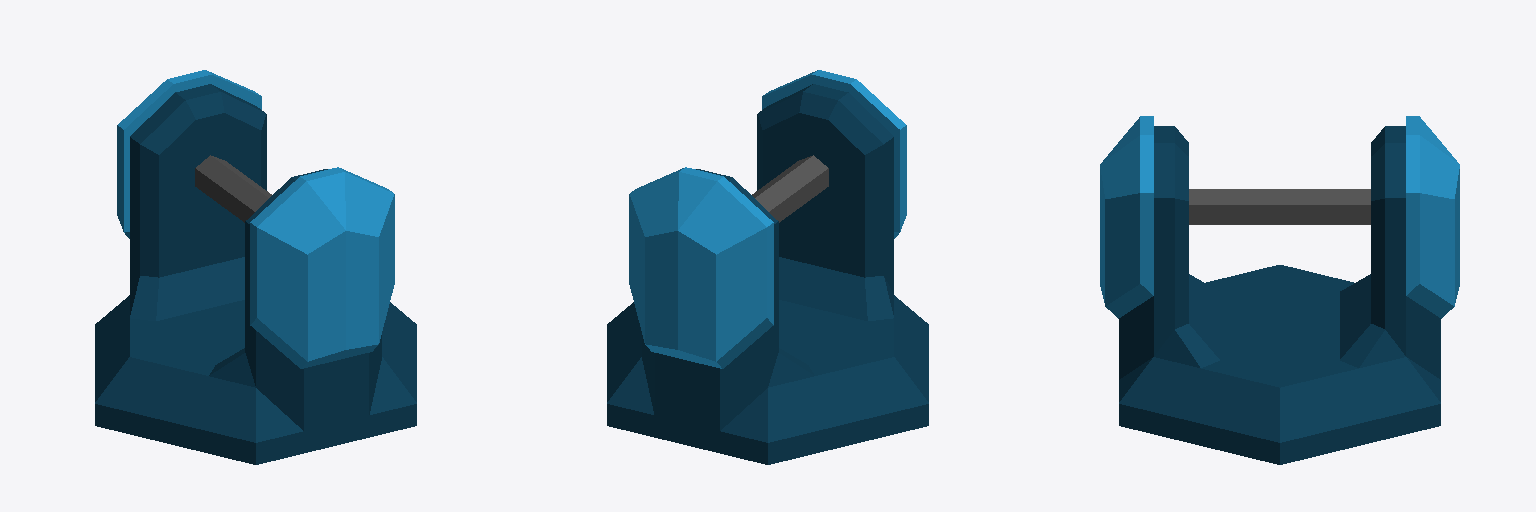
Rendered from Spacestation_Weapon_Modular_Gun_Mount.obj.
3 renders of one model, left to right at view 1: azimuth 30°, elevation 25°; view 2: azimuth 150°, elevation 25°; view 3: azimuth 270°, elevation 25°, orthographic.
Visible parts, largest first — view 1: object4, object3, object2, object1; view 2: object4, object2, object3, object1; view 3: object4, object2, object3, object1.
Boxes of the visible parts, x1,y1,x2,y2 form: object4: [95, 84, 416, 464]; object3: [250, 167, 394, 368]; object2: [117, 70, 261, 238]; object1: [195, 155, 271, 222]; object4: [607, 84, 928, 464]; object2: [629, 167, 773, 368]; object3: [762, 70, 906, 238]; object1: [752, 155, 828, 222]; object4: [1119, 126, 1440, 464]; object2: [1406, 116, 1459, 318]; object3: [1100, 116, 1153, 318]; object1: [1189, 189, 1370, 224].
Bounding box in the file's own units: 2.82 × 2.18 × 2.73.